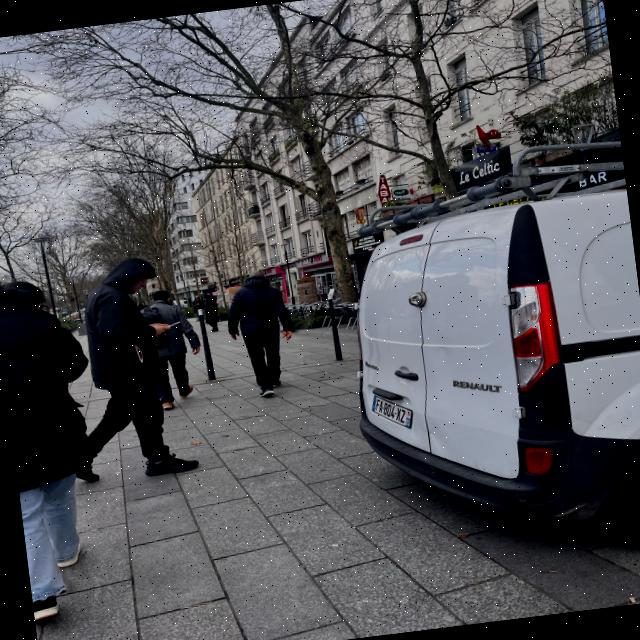Autre: (366, 390, 420, 428)
